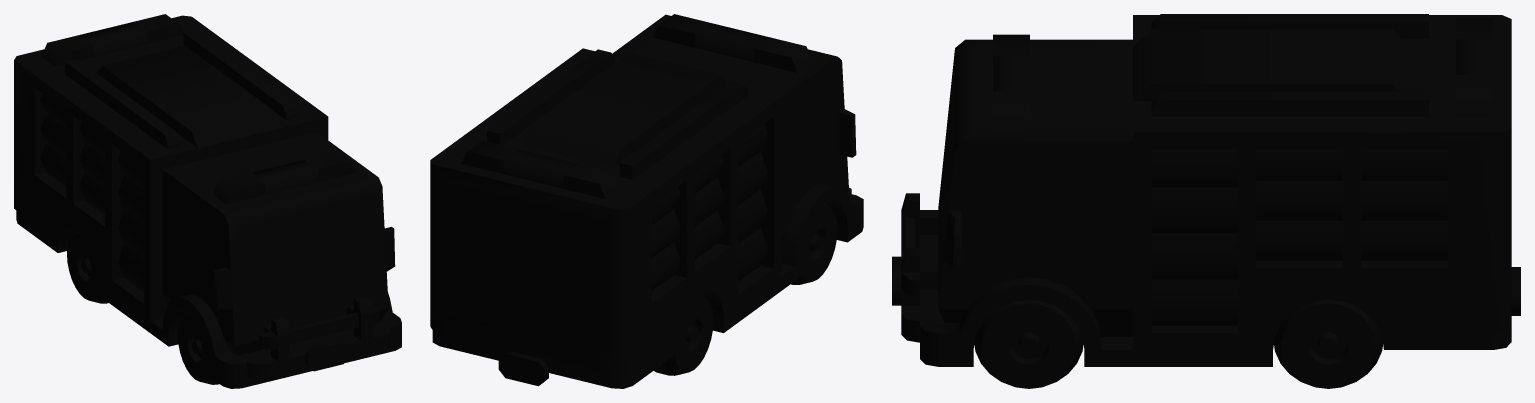
The model's file is firetruck.glb.
3 renders of one model, left to right at view 1: azimuth 30°, elevation 25°; view 2: azimuth 150°, elevation 25°; view 3: azimuth 270°, elevation 25°, orthographic. The views are drawn at different scales.
Visible parts, largest first — view 1: body, grill, wheel-front-right (×2); view 2: body, wheel-front-right (×2); view 3: body, wheel-front-left (×2), grill.
Boxes of the visible parts, x1=… form: body: x1=14, y1=14, x2=401, y2=388; grill: x1=247, y1=296, x2=390, y2=380; wheel-front-right (×2): x1=67, y1=230, x2=219, y2=384; body: x1=430, y1=14, x2=863, y2=388; wheel-front-right (×2): x1=654, y1=203, x2=837, y2=375; body: x1=920, y1=14, x2=1520, y2=366; wheel-front-left (×2): x1=974, y1=300, x2=1382, y2=388; grill: x1=892, y1=193, x2=938, y2=342.
Bounding box in the file's own units: 1.5 × 1.7 × 3.4.
Materials: 1 (1 with a texture image).
